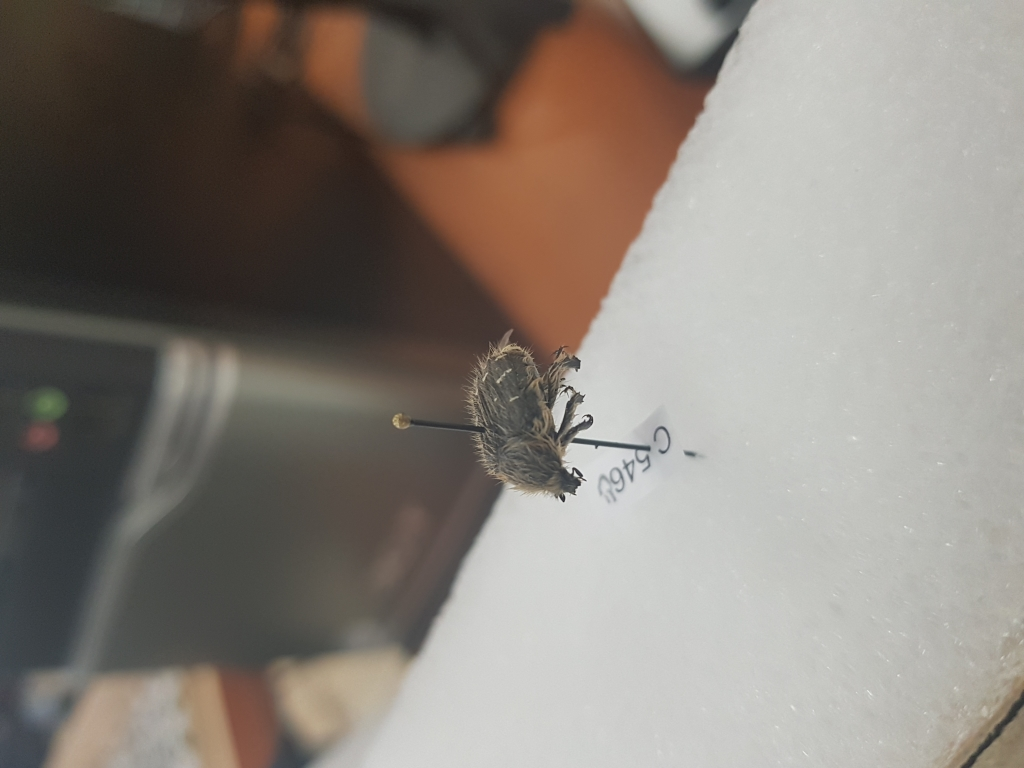Tropinota_senicula: (452, 322, 604, 512)
